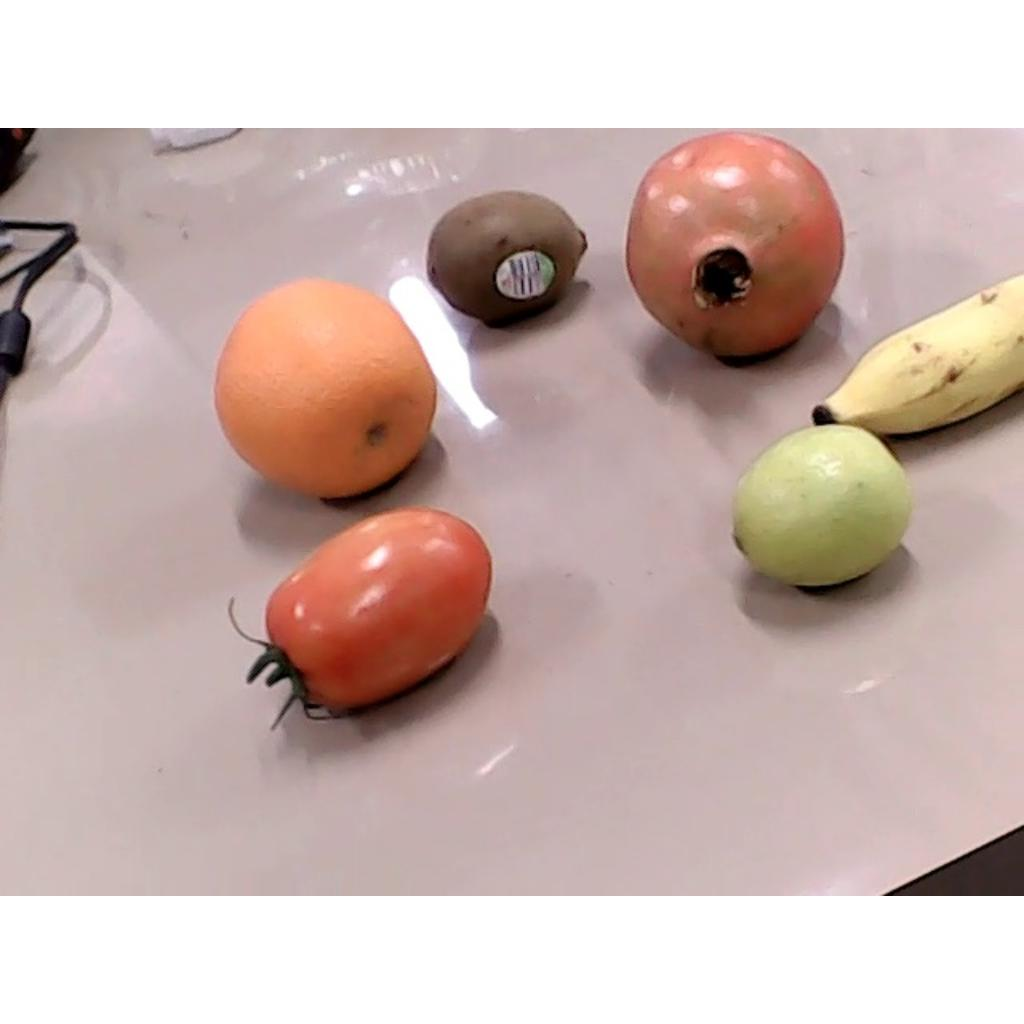kiwi: (427, 191, 590, 322)
lemon: (733, 424, 912, 587)
orange: (214, 280, 439, 498)
pomegranate: (624, 132, 845, 357)
tomato: (228, 508, 492, 731)
